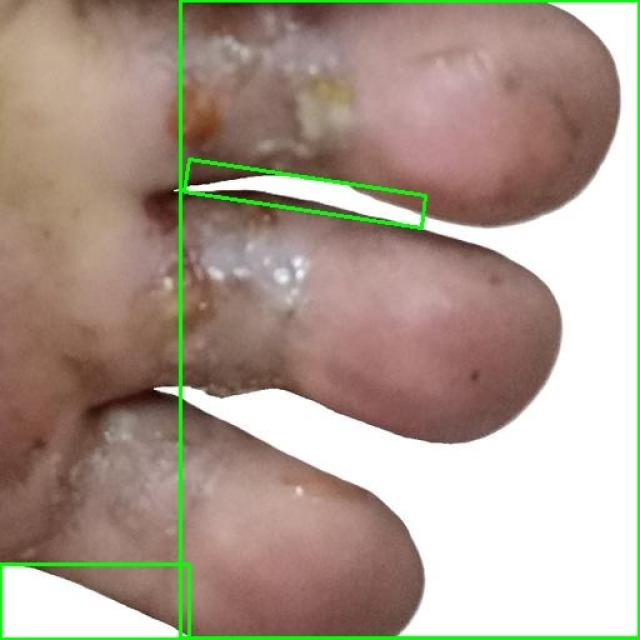Scabies: (180, 0, 639, 639), (184, 160, 426, 228), (0, 564, 189, 639)
